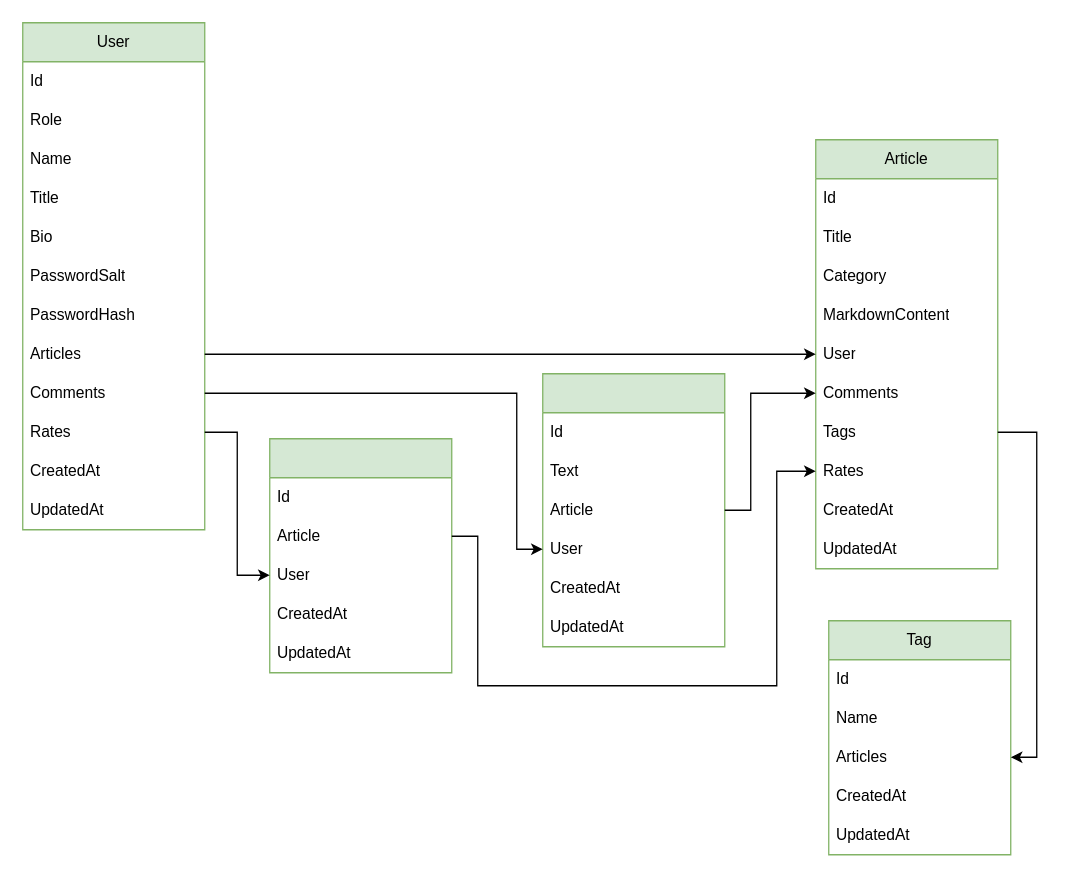
The diagram is 1070 pixels wide and 877 high, and some of its shapes have lost their labels. Here are the shapes that lost their labels. From the top down, the box of each, then its label:
(541, 372, 725, 647): Comment
(268, 437, 452, 673): Rate
